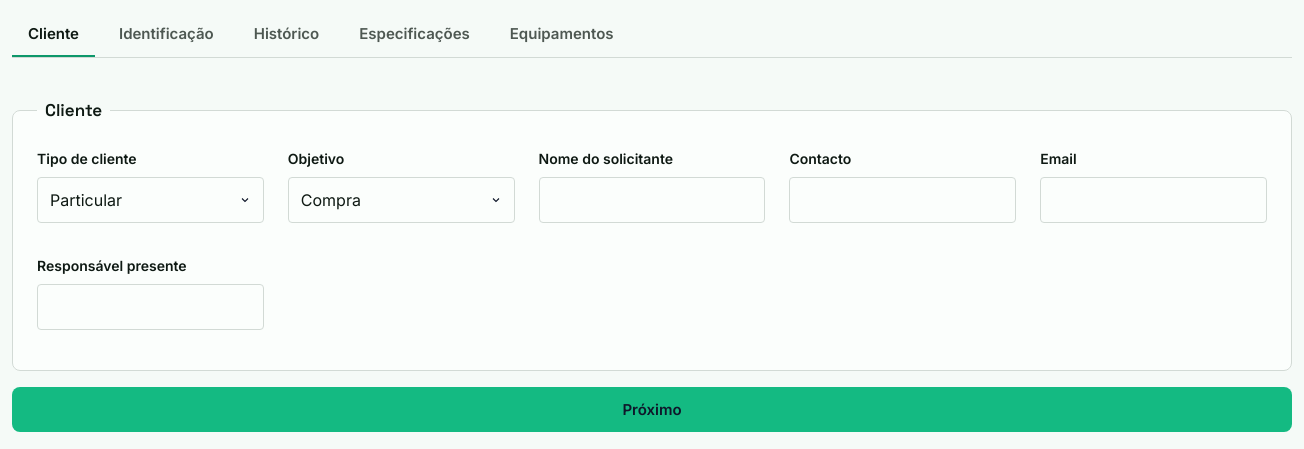
it: NewInspectionForm in edit mode › pre-fills fields from initialData instead of starting blank
This screenshot has width=1304, height=449.
Step 1. Click the tab "Identificação" → (166, 34), box [103,12,230,57]
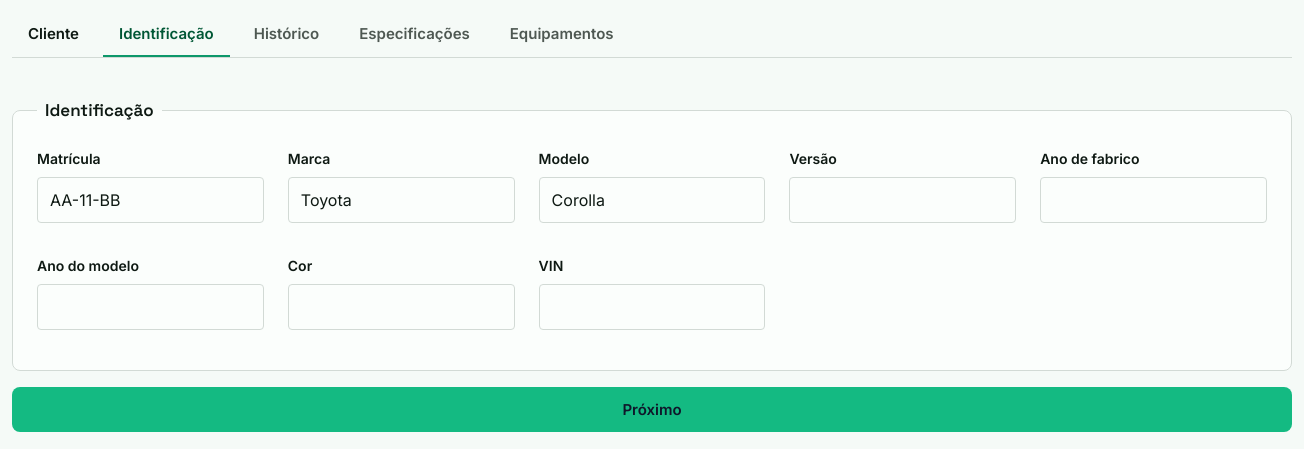
Result: the field labelled "Matrícula" holds "AA-11-BB" at [37,176,264,222]
Result: the field labelled "Marca" holds "Toyota" at [288,176,515,222]
Result: the field labelled "Modelo" holds "Corolla" at [539,176,765,222]
